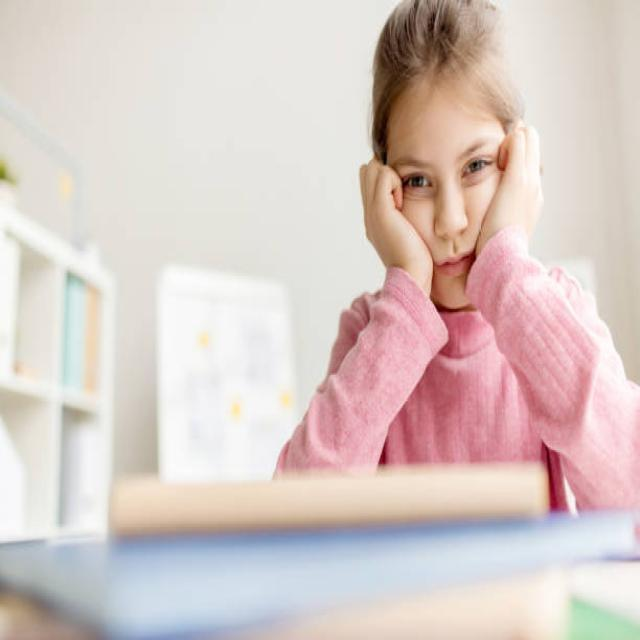Looking away: (389, 80, 501, 307)
